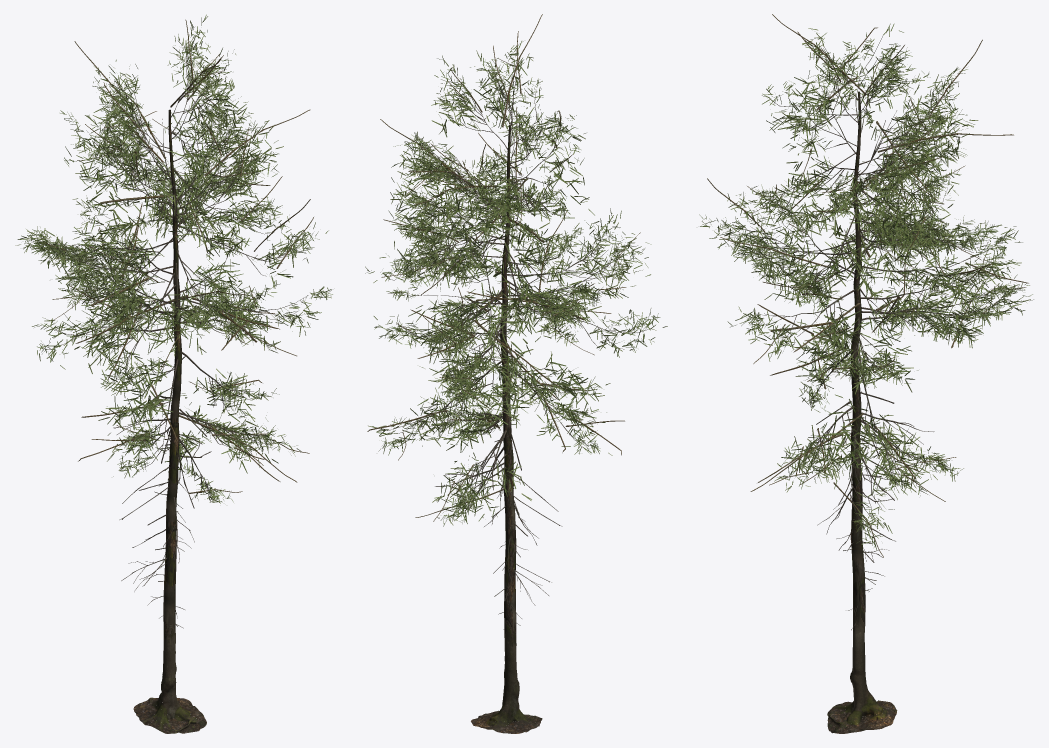
Rendered from fir_tree_01_b.glb.
The picture shows the model from 3 angles, left to right: view 1: azimuth 30°, elevation 25°; view 2: azimuth 150°, elevation 25°; view 3: azimuth 270°, elevation 25°; orthographic projection. The views are drawn at different scales.
Parts seen in each view (by area): view 1: fir_tree_01_b_LOD0.003, fir_tree_01_b_LOD0.001, fir_tree_01_b_LOD0.002, fir_tree_01_b_LOD0; view 2: fir_tree_01_b_LOD0.003, fir_tree_01_b_LOD0.001, fir_tree_01_b_LOD0.002, fir_tree_01_b_LOD0; view 3: fir_tree_01_b_LOD0.003, fir_tree_01_b_LOD0.001, fir_tree_01_b_LOD0.002, fir_tree_01_b_LOD0.
Boxes of the visible parts, x1,y1,x2,y2 form: fir_tree_01_b_LOD0.003: (15,14,332,503); fir_tree_01_b_LOD0.001: (32,41,308,502); fir_tree_01_b_LOD0.002: (133,109,206,733); fir_tree_01_b_LOD0: (113,395,211,628); fir_tree_01_b_LOD0.003: (365,14,667,526); fir_tree_01_b_LOD0.001: (388,62,648,513); fir_tree_01_b_LOD0.002: (471,125,542,733); fir_tree_01_b_LOD0: (435,409,562,629); fir_tree_01_b_LOD0.003: (699,14,1033,557); fir_tree_01_b_LOD0.001: (725,36,1004,530); fir_tree_01_b_LOD0.002: (827,91,897,733); fir_tree_01_b_LOD0: (816,391,934,630).
Size of the model in its own units: 5.53 by 14.16 by 6.08.
Materials: 4 (4 with a texture image).
